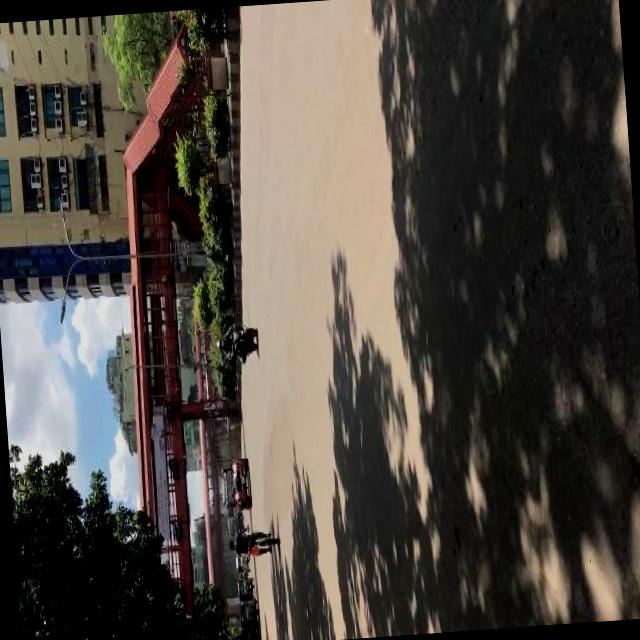car: (217, 453, 251, 509)
motorcycle: (212, 319, 258, 363), (237, 598, 259, 624), (236, 572, 254, 596), (232, 551, 248, 570)
